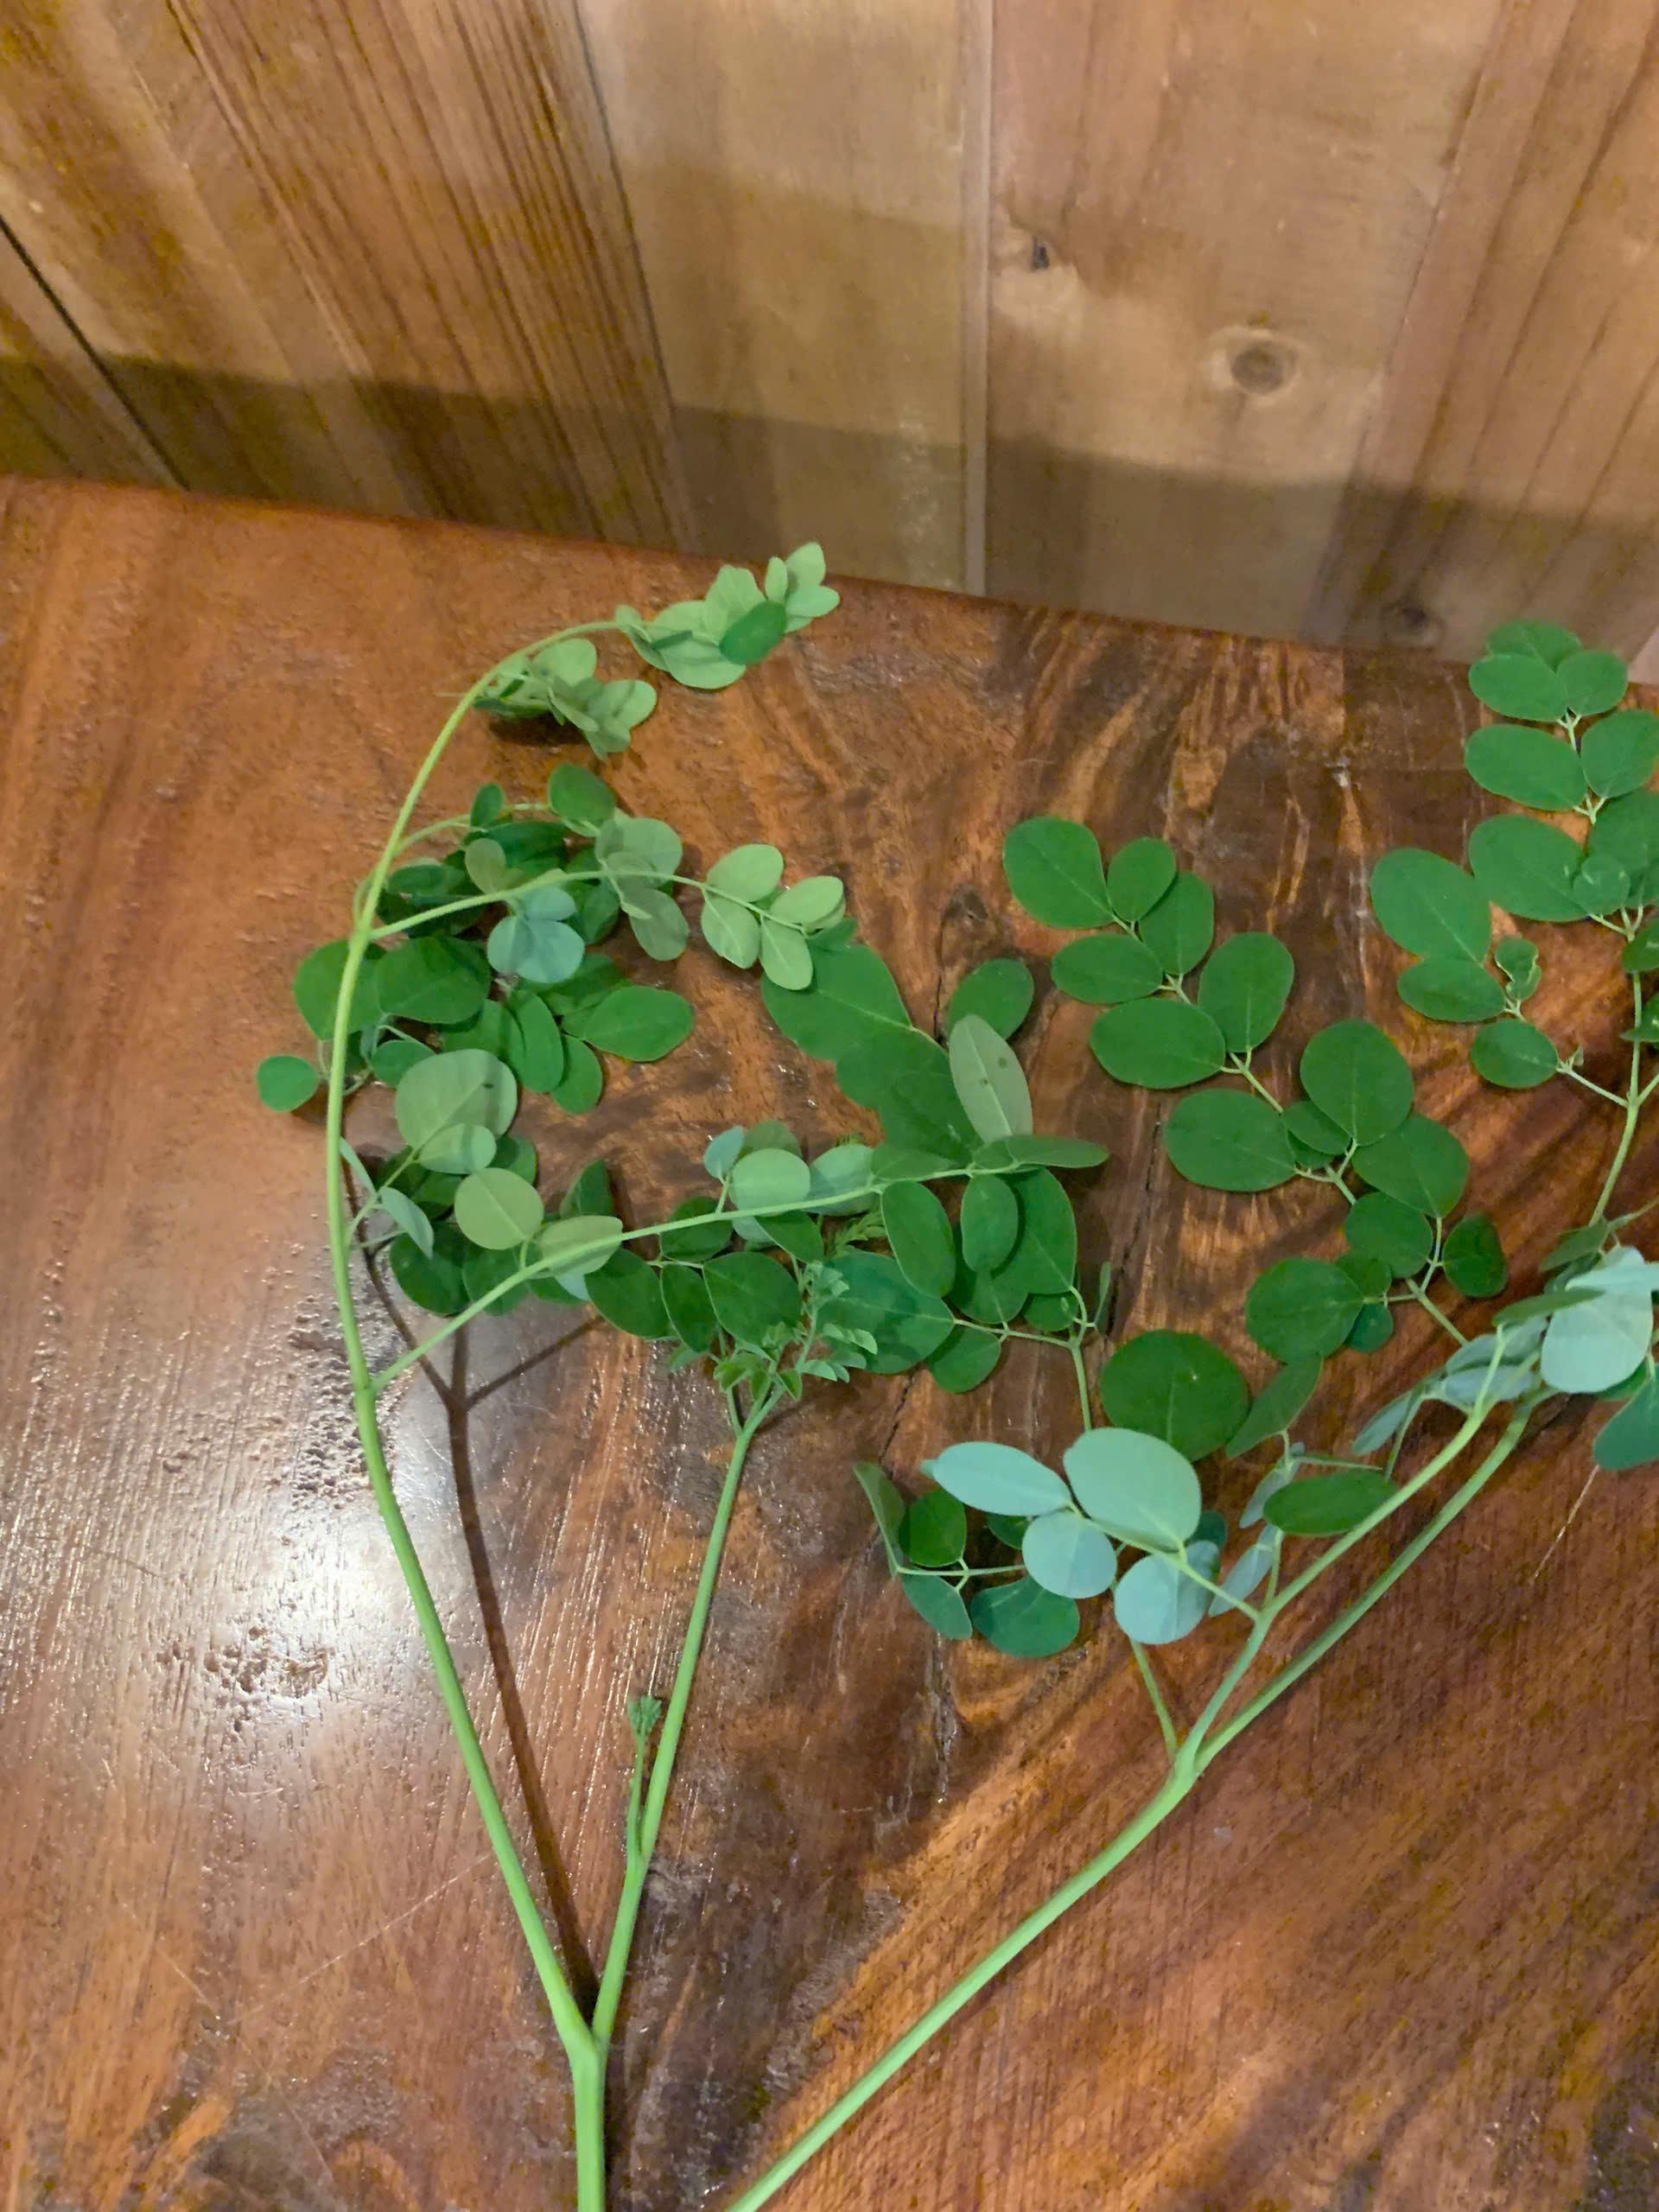Huu co: (336, 550, 1635, 1919)
